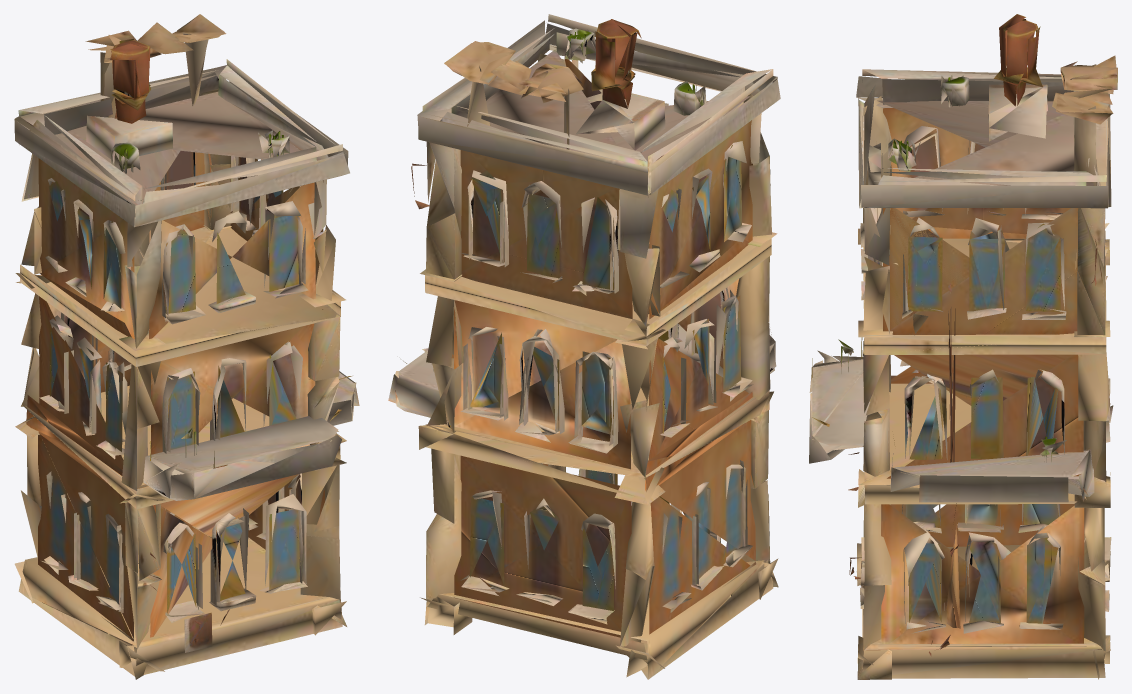
Rendered from twin-tower.lod1.glb.
3 renders of one model, left to right at view 1: azimuth 30°, elevation 25°; view 2: azimuth 150°, elevation 25°; view 3: azimuth 270°, elevation 25°, orthographic. The views are drawn at different scales.
Visible parts, largest first — view 1: twin-tower_lod1; view 2: twin-tower_lod1; view 3: twin-tower_lod1.
Part boxes in pixels (x1,y1,x2,y2): twin-tower_lod1: (14,14,359,679); twin-tower_lod1: (388,14,780,679); twin-tower_lod1: (809,14,1117,679).
Size of the model in its own units: 4 by 8.41 by 4.01.
1 material, 1 textured.
